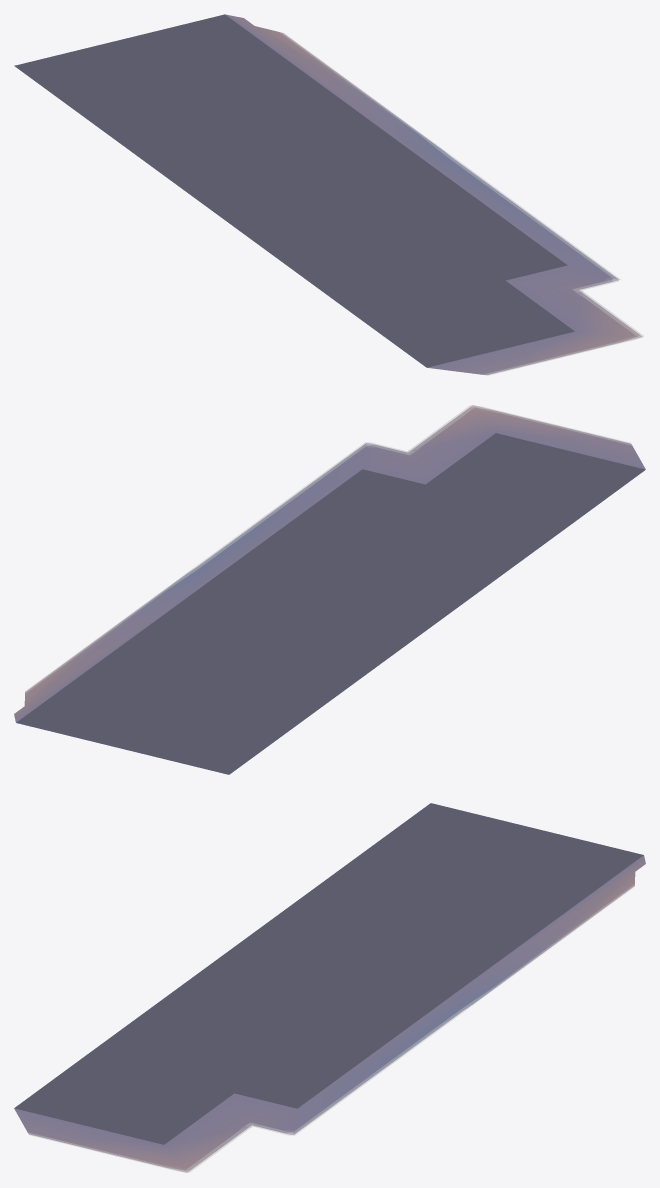
3 views of the same model, one above another, from view 1: azimuth 30°, elevation 25°; view 2: azimuth 150°, elevation 25°; view 3: azimuth 330°, elevation 25° (orthographic).
Parts seen in each view (by area): view 1: Joint_0_Object_0; view 2: Joint_0_Object_0; view 3: Joint_0_Object_0.
Boxes of the visible parts, left/top/right/bottom form: Joint_0_Object_0: left=14, top=14, right=642, bottom=375; Joint_0_Object_0: left=14, top=405, right=645, bottom=774; Joint_0_Object_0: left=14, top=803, right=645, bottom=1172.
Size of the model in its own units: 1591 by 1e-05 by 5086.
Materials: 1 (1 with a texture image).
